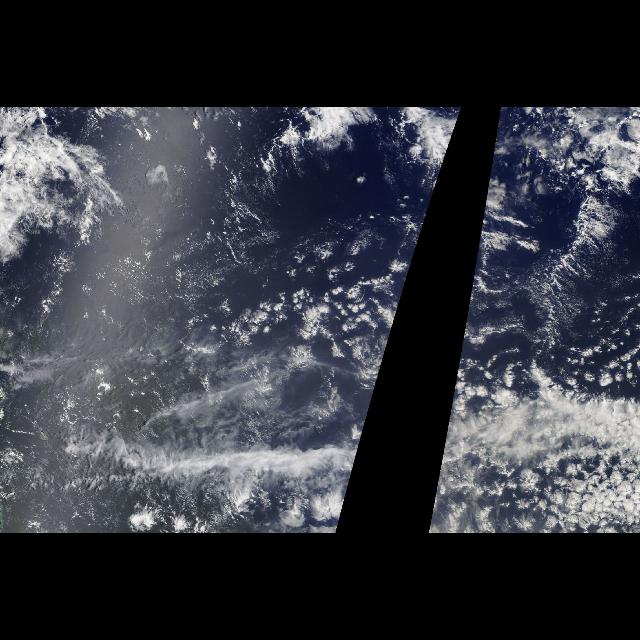Flower: (427, 377, 639, 531)
Sugar: (66, 174, 358, 462)
